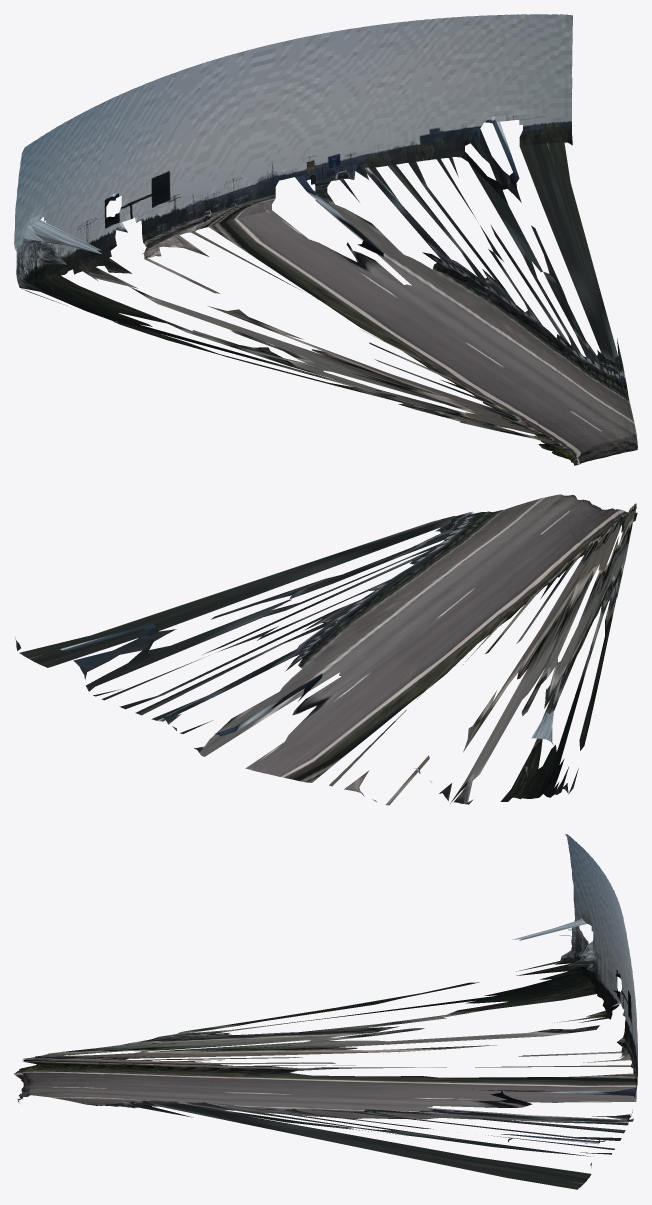
3 renders of one model, top to bottom at view 1: azimuth 30°, elevation 25°; view 2: azimuth 150°, elevation 25°; view 3: azimuth 270°, elevation 25°, orthographic. The views are drawn at different scales.
Parts seen in each view (by area): view 1: defaultobject; view 2: defaultobject; view 3: defaultobject.
Part boxes in pixels (x1,y1,x2,y2): defaultobject: (14,14,637,465); defaultobject: (15,494,637,805); defaultobject: (14,834,637,1189).
Size of the model in its own units: 41.14 by 12.79 by 44.66.
1 material, 1 textured.
